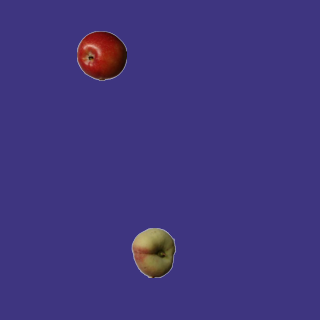Apple Braeburn: (76, 30, 126, 80)
Peach Flat: (128, 227, 178, 277)
